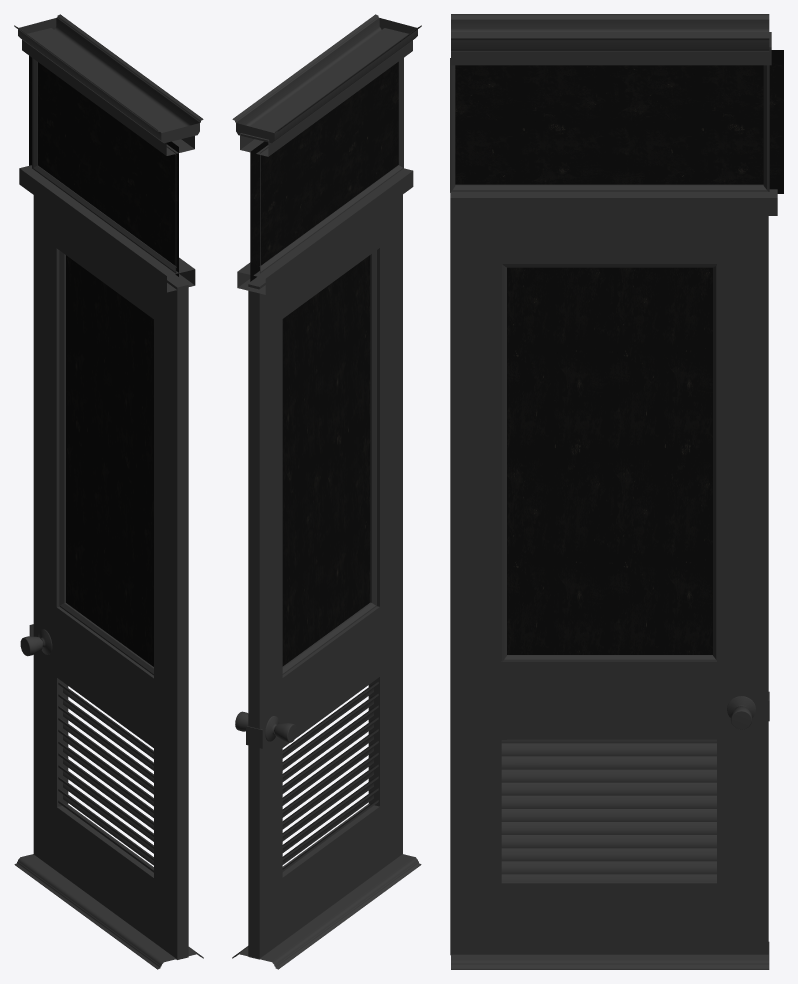
The model's file is part_door_01.FBX.
The picture shows the model from 3 angles, left to right: view 1: azimuth 30°, elevation 25°; view 2: azimuth 150°, elevation 25°; view 3: azimuth 270°, elevation 25°; orthographic projection. The views are drawn at different scales.
Parts seen in each view (by area): view 1: part_door_01; view 2: part_door_01; view 3: part_door_01.
Boxes of the visible parts, left/top/right/bottom form: part_door_01: left=14, top=14, right=203, bottom=969; part_door_01: left=232, top=14, right=421, bottom=969; part_door_01: left=450, top=14, right=783, bottom=969.
Size of what is drawn, in the model's own units: 23.44 by 115 by 355.
